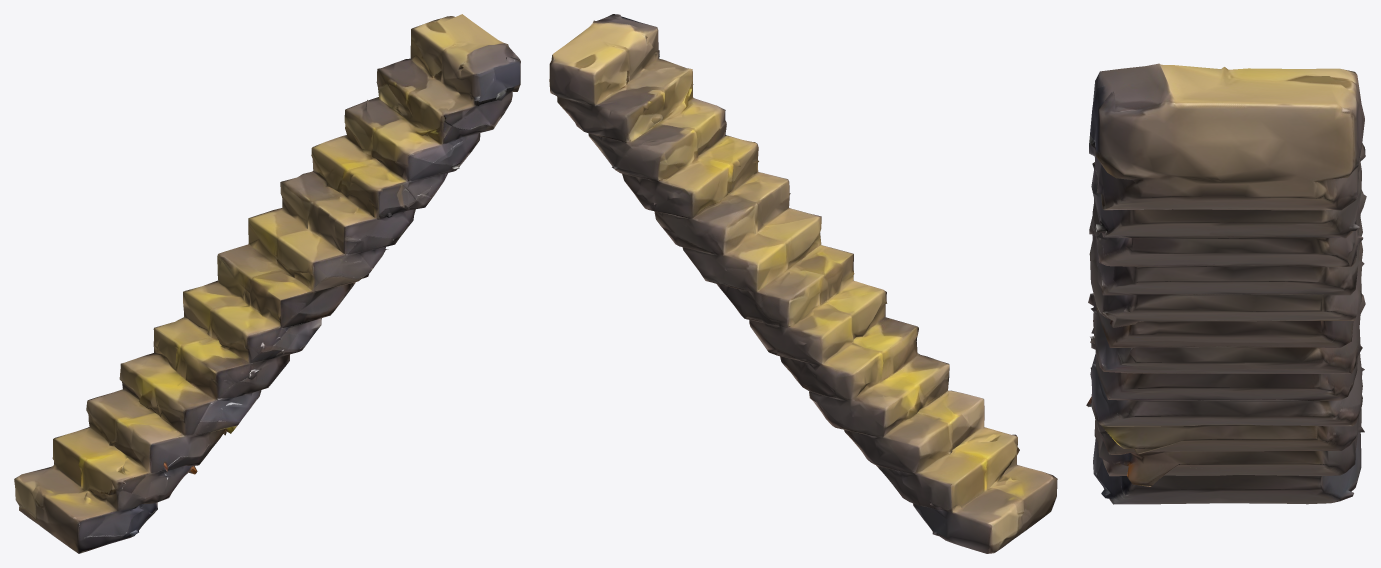
Rendered from stairs.glb.
3 renders of one model, left to right at view 1: azimuth 30°, elevation 25°; view 2: azimuth 150°, elevation 25°; view 3: azimuth 270°, elevation 25°, orthographic. The views are drawn at different scales.
Parts seen in each view (by area): view 1: tripo_node_48557ad5-9c1c-4736-b7cd-f4f9fd0f1bd7; view 2: tripo_node_48557ad5-9c1c-4736-b7cd-f4f9fd0f1bd7; view 3: tripo_node_48557ad5-9c1c-4736-b7cd-f4f9fd0f1bd7.
Boxes of the visible parts, x1,y1,x2,y2 form: tripo_node_48557ad5-9c1c-4736-b7cd-f4f9fd0f1bd7: [14, 14, 520, 553]; tripo_node_48557ad5-9c1c-4736-b7cd-f4f9fd0f1bd7: [549, 14, 1057, 553]; tripo_node_48557ad5-9c1c-4736-b7cd-f4f9fd0f1bd7: [1086, 63, 1366, 504].
Bounding box in the file's own units: 1 × 0.8384 × 0.2677.
1 material, 1 textured.
